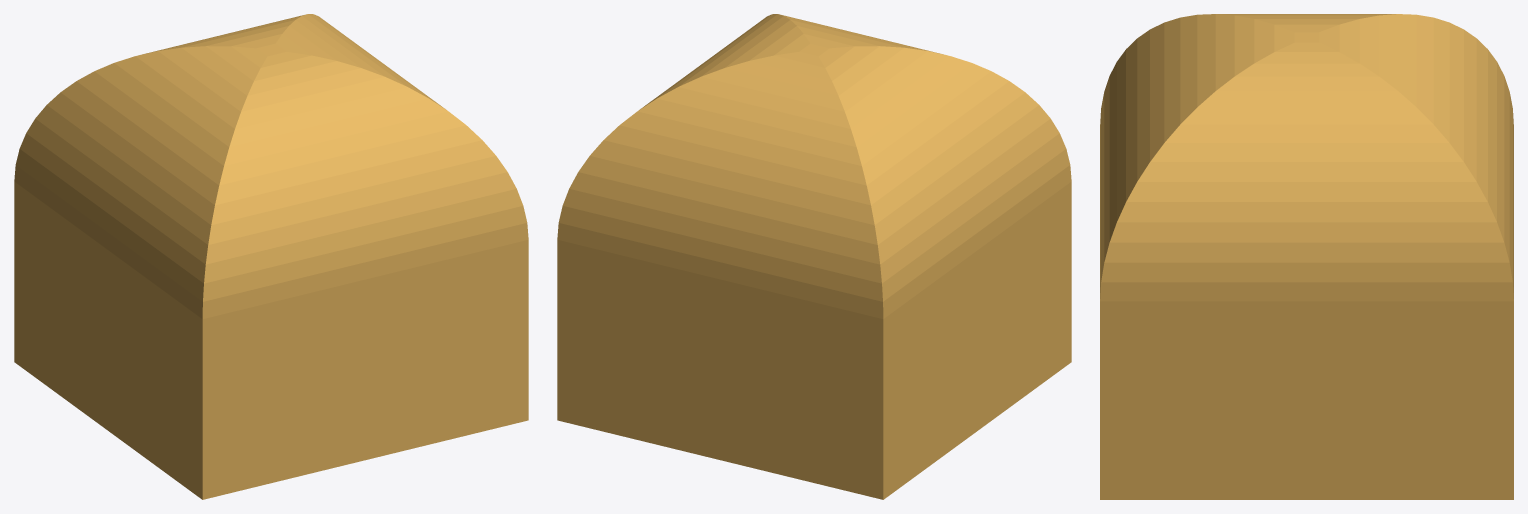
The model's file is singel_block 1.fbx.
3 renders of one model, left to right at view 1: azimuth 30°, elevation 25°; view 2: azimuth 150°, elevation 25°; view 3: azimuth 270°, elevation 25°, orthographic. The views are drawn at different scales.
Visible parts, largest first — view 1: Cube.006; view 2: Cube.006; view 3: Cube.006.
Part boxes in pixels (left/top/right/bottom): Cube.006: left=14, top=14, right=528, bottom=499; Cube.006: left=557, top=14, right=1071, bottom=499; Cube.006: left=1100, top=14, right=1513, bottom=499.
Size of the model in its own units: 100 by 100 by 100.
